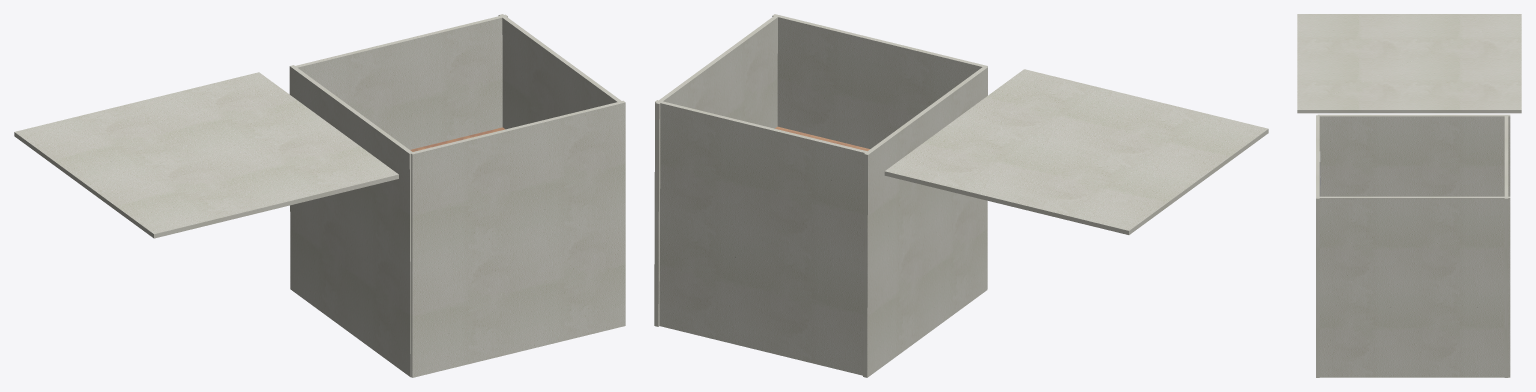
The model's file is ground1.FBX.
The picture shows the model from 3 angles, left to right: view 1: azimuth 30°, elevation 25°; view 2: azimuth 150°, elevation 25°; view 3: azimuth 270°, elevation 25°; orthographic projection. The views are drawn at different scales.
Visible parts, largest first — view 1: Box005, Box006, Box003, Box004, Box002; view 2: Box004, Box006, Box003, Box005, Box002; view 3: Box002, Box006, Box003, Box004, Box005.
Boxes of the visible parts, x1,y1,x2,y2 form: Box005: [410, 100, 625, 377]; Box006: [14, 72, 398, 238]; Box003: [289, 65, 411, 377]; Box004: [292, 14, 507, 149]; Box002: [498, 14, 621, 129]; Box004: [655, 100, 869, 375]; Box006: [884, 69, 1268, 234]; Box003: [863, 67, 987, 377]; Box005: [772, 14, 987, 288]; Box002: [654, 16, 777, 326]; Box002: [1319, 196, 1510, 377]; Box006: [1297, 14, 1521, 113]; Box003: [1318, 114, 1510, 196]; Box004: [1504, 115, 1508, 377]; Box005: [1316, 115, 1319, 377].
Bounding box in the file's own units: 2307 × 1156 × 1020.
